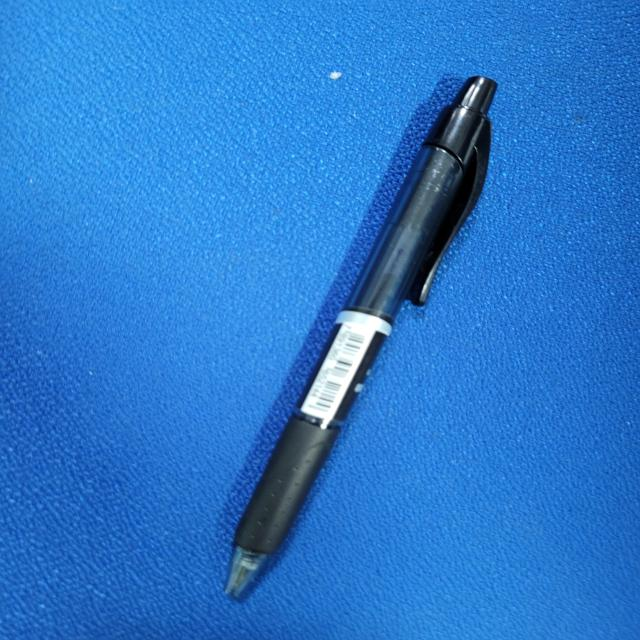caneta: (208, 65, 511, 602)
